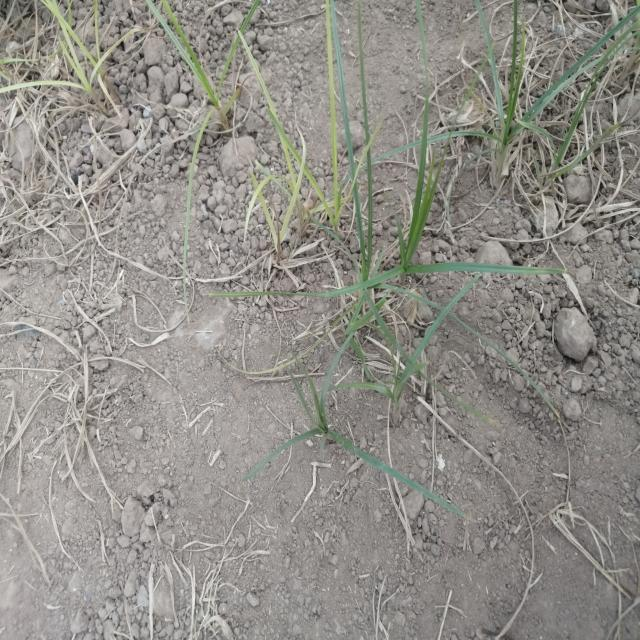sedge: (312, 85, 532, 368), (208, 339, 458, 575)
